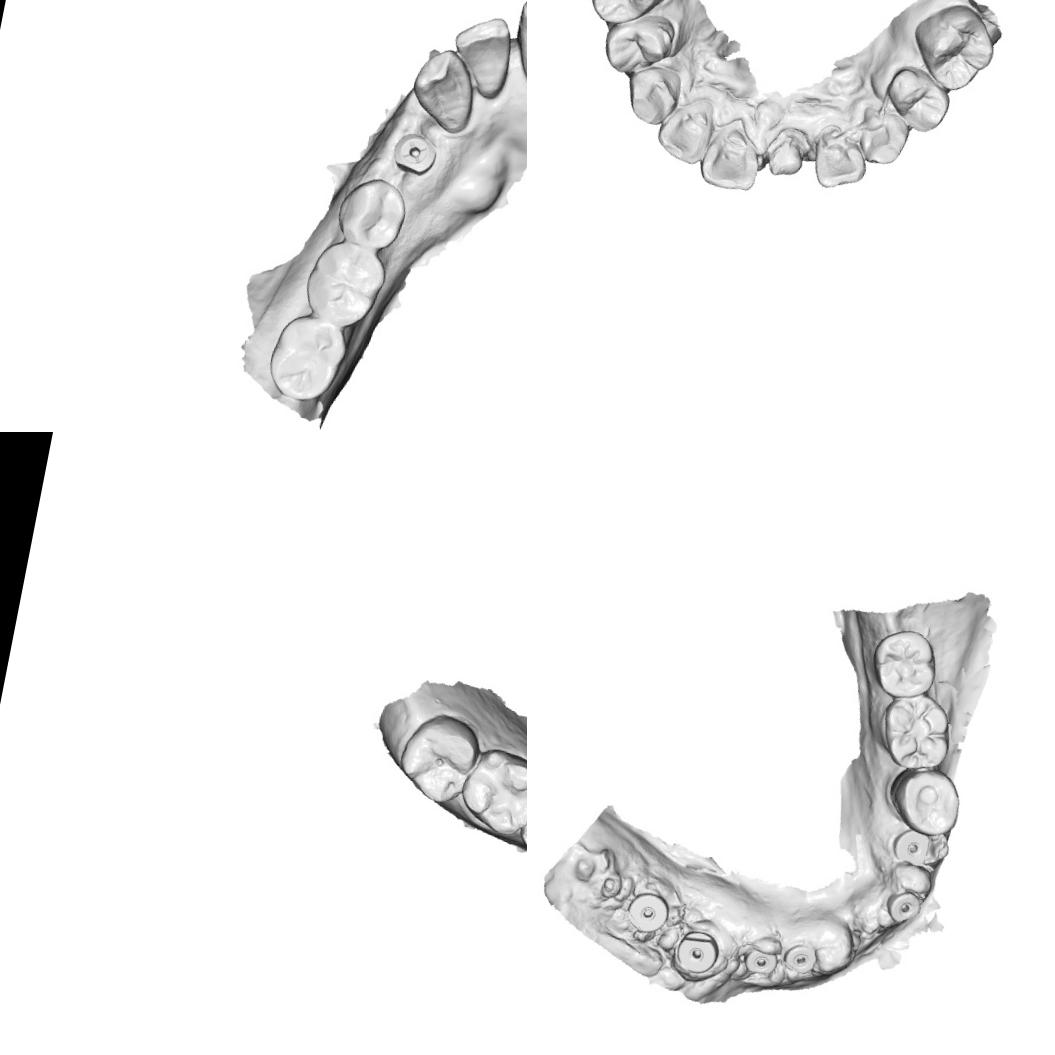canine: (402, 43, 483, 138), (844, 100, 915, 171), (618, 58, 686, 132)
crown: (763, 131, 813, 184)
implant: (671, 926, 723, 979), (624, 889, 673, 937), (780, 936, 819, 979), (884, 887, 924, 927), (890, 827, 929, 867), (743, 941, 780, 978)
implant_plus: (386, 128, 442, 181)
incisor: (444, 3, 518, 101), (694, 119, 768, 199), (653, 98, 717, 170), (805, 132, 873, 196), (506, 0, 527, 81)
molar: (389, 706, 484, 808), (295, 235, 388, 330), (261, 311, 352, 408), (873, 690, 958, 775), (455, 745, 527, 842), (864, 622, 946, 700), (888, 762, 961, 839)
premolar: (901, 0, 1005, 99), (596, 4, 683, 84), (331, 170, 411, 252), (878, 61, 956, 138), (575, 0, 682, 36)
